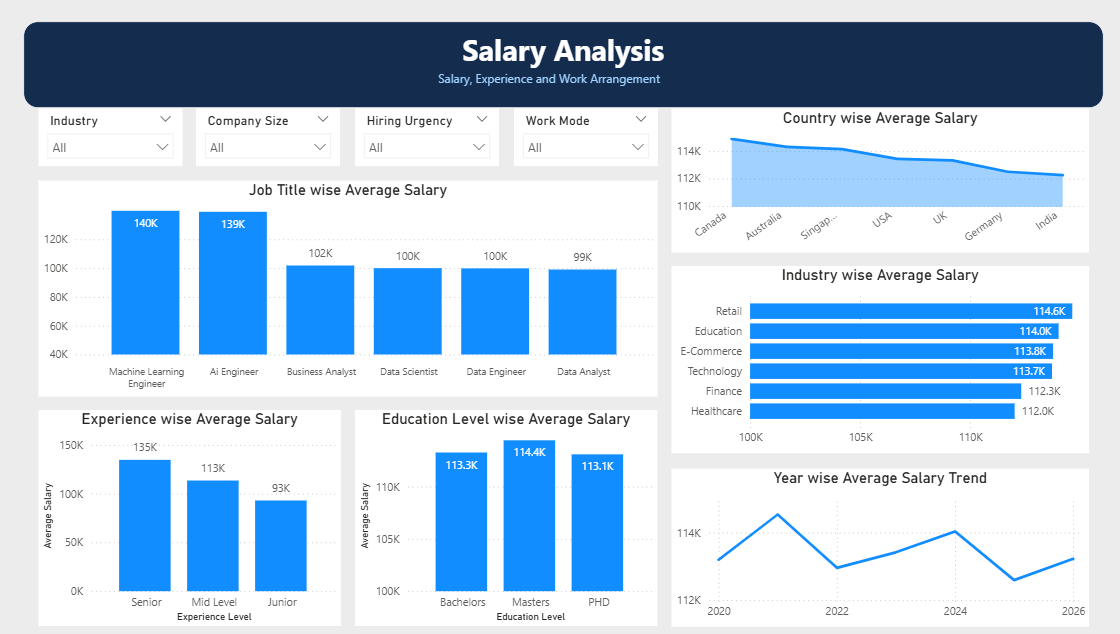

This screenshot's page, from the dashboard's own definition file:
{"tool":"powerbi","page":{"name":"Salary Analysis","canvas":[1280,720],"ordinal":1},"visuals":[{"type":"clusteredColumnChart","title":"Job Title wise Average Salary","fields":{"Category":["Final Dataset.JobTitle_Final"],"Y":["Avg(Final Dataset.Salary_Final)"]},"box":[48,208,688,240],"z":0},{"type":"clusteredBarChart","title":"Industry wise Average Salary","fields":{"Category":["Final Dataset.Company_Industry_Final"],"Y":["Avg(Final Dataset.Salary_Final)"]},"box":[752,304,464,208],"z":1000},{"type":"textbox","box":[32,32,1200,96],"z":2000},{"type":"lineChart","title":"Year wise Average Salary Trend","fields":{"Category":["Final Dataset.Posting_Year_Final"],"Y":["Avg(Final Dataset.Salary_Final)"]},"box":[752,528,464,176],"z":3000},{"type":"textbox","box":[432,80,368,32],"z":4000},{"type":"slicer","fields":{"Values":["Final Dataset.Remote_Type_Final"]},"box":[576,128,160,64],"z":5000},{"type":"clusteredColumnChart","title":"Education Level wise Average Salary","fields":{"Category":["Final Dataset.Education_Level_Final"],"Y":["Avg(Final Dataset.Salary_Final)"]},"box":[400,464,336,240],"z":6000},{"type":"clusteredColumnChart","title":"Experience wise Average Salary","fields":{"Category":["Final Dataset.Exp. Level_Final"],"Y":["Avg(Final Dataset.Salary_Final)"]},"box":[48,464,336,240],"z":7000},{"type":"areaChart","title":"Country wise Average Salary","fields":{"Category":["Final Dataset.Country"],"Y":["Avg(Final Dataset.Salary_Final)"]},"box":[752,128,464,160],"z":8000},{"type":"slicer","fields":{"Values":["Final Dataset.Company Size_Final"]},"box":[224,128,160,64],"z":9000},{"type":"slicer","fields":{"Values":["Final Dataset.Company_Industry_Final"]},"box":[48,128,160,64],"z":10000},{"type":"slicer","fields":{"Values":["Final Dataset.Hiring_Urgency_Final"]},"box":[400,128,160,64],"z":11000}]}

Visuals, with their boxes in screenshot pixels (x1, y1, x2, y2), scaled from the page's 1280x720 canvas onto the 1120x634 screenshot:
"Job Title wise Average Salary" clusteredColumnChart: bbox=(42, 183, 644, 394)
"Industry wise Average Salary" clusteredBarChart: bbox=(658, 268, 1064, 451)
textbox: bbox=(28, 28, 1078, 113)
"Year wise Average Salary Trend" lineChart: bbox=(658, 465, 1064, 620)
textbox: bbox=(378, 70, 700, 99)
slicer - Final Dataset.Remote_Type_Final: bbox=(504, 113, 644, 169)
"Education Level wise Average Salary" clusteredColumnChart: bbox=(350, 409, 644, 620)
"Experience wise Average Salary" clusteredColumnChart: bbox=(42, 409, 336, 620)
"Country wise Average Salary" areaChart: bbox=(658, 113, 1064, 254)
slicer - Final Dataset.Company Size_Final: bbox=(196, 113, 336, 169)
slicer - Final Dataset.Company_Industry_Final: bbox=(42, 113, 182, 169)
slicer - Final Dataset.Hiring_Urgency_Final: bbox=(350, 113, 490, 169)
